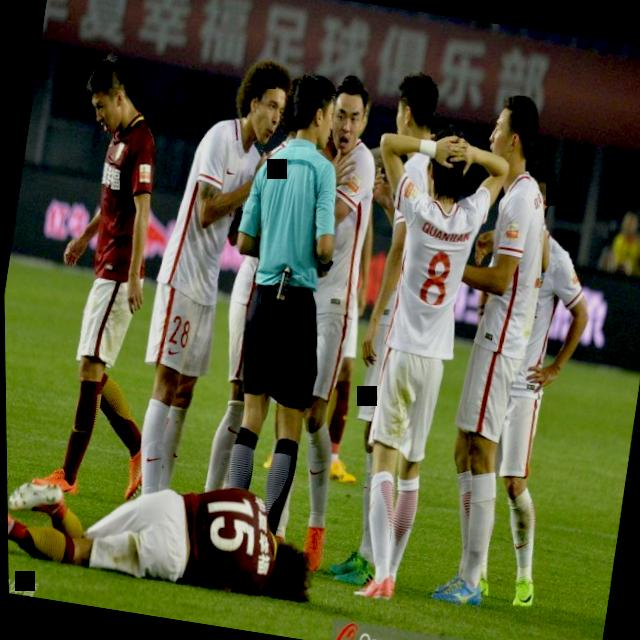Fall-Detected: (5, 435, 340, 617)
